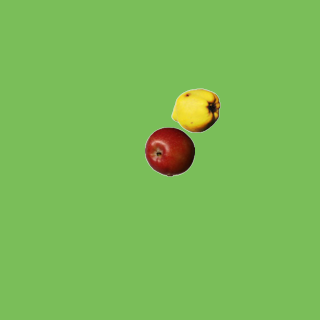Apple Braeburn: (144, 126, 194, 176)
Quince: (170, 85, 220, 135)
